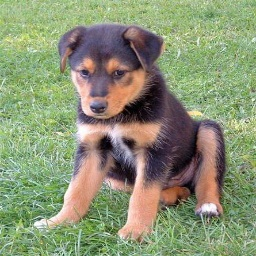dog: (31, 22, 231, 235)
